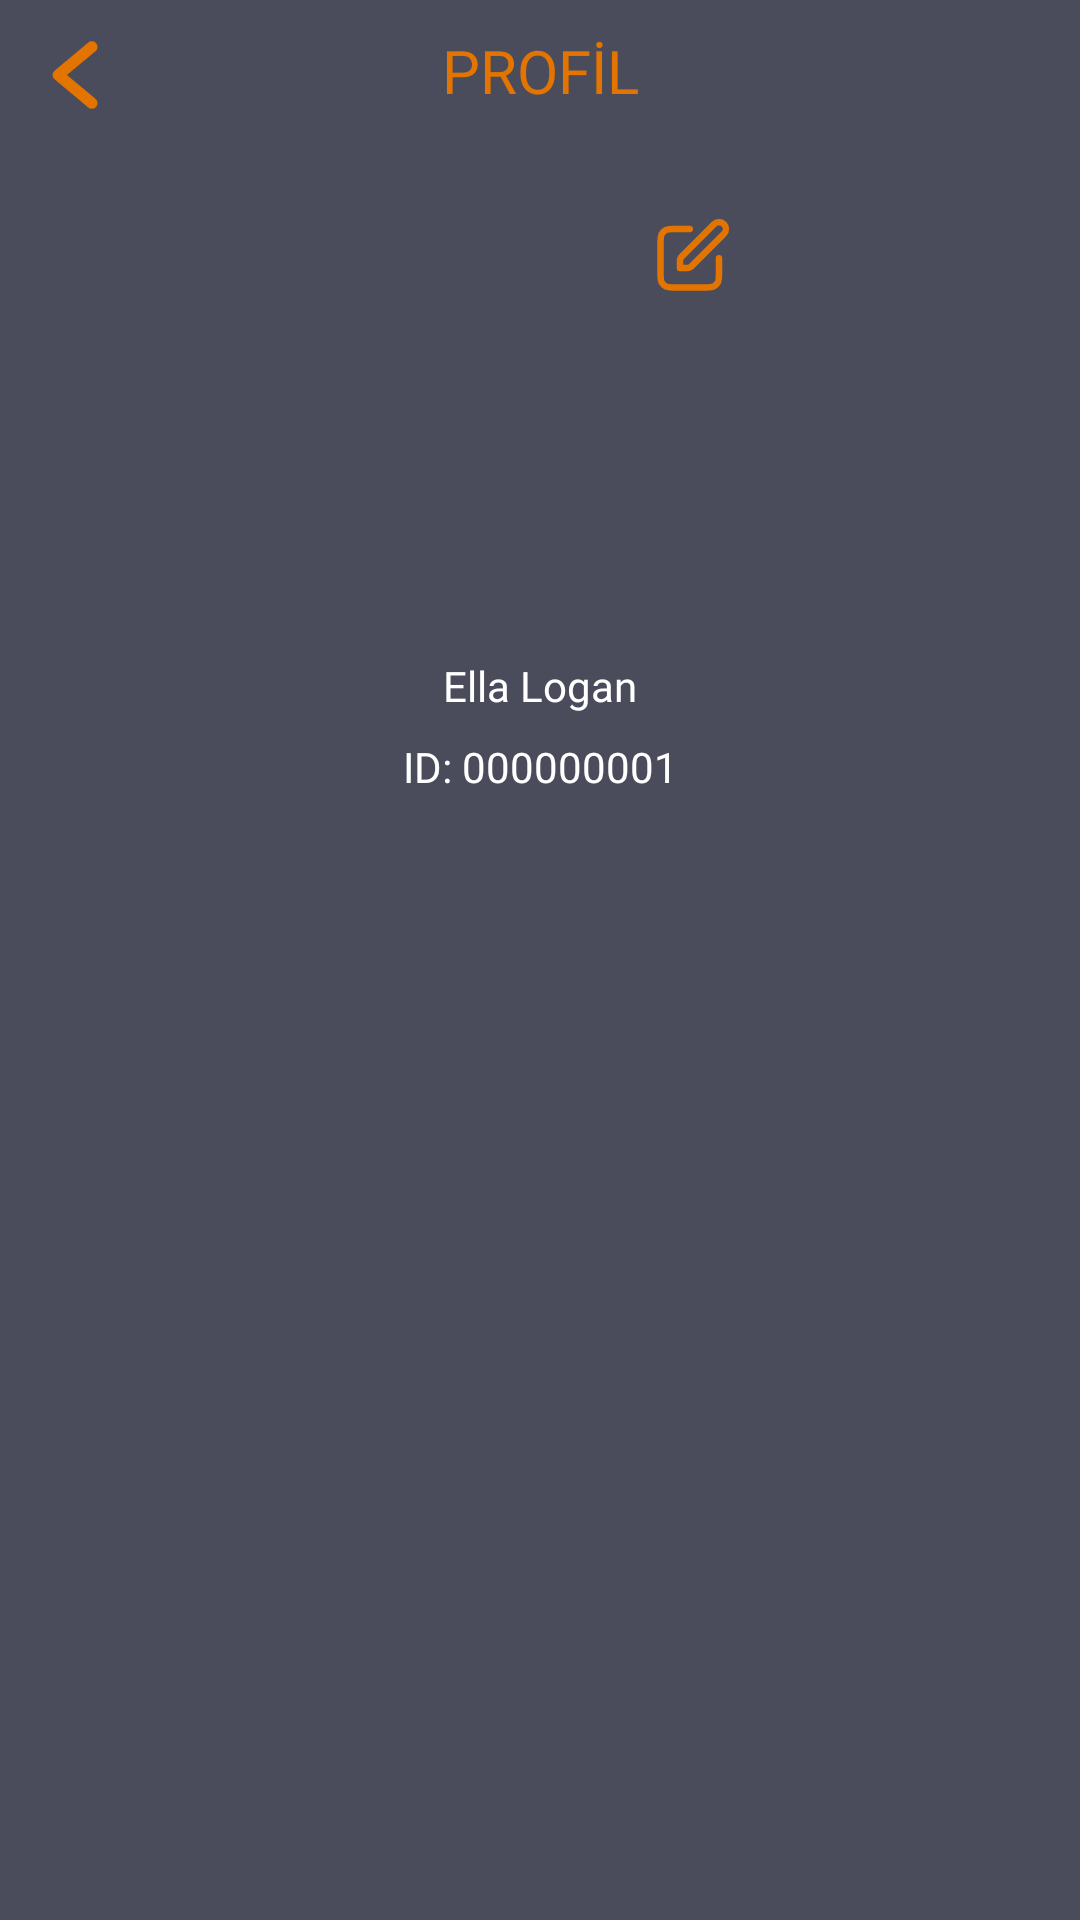

Icons on this 1080x1920 Android screen, each with the point to tap as (x=x, y=y):
back arrow: (x=75, y=75)
edit: (x=693, y=255)
